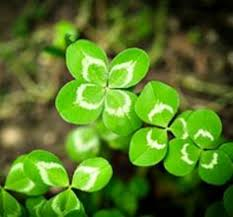4-clover: (56, 40, 147, 135)
